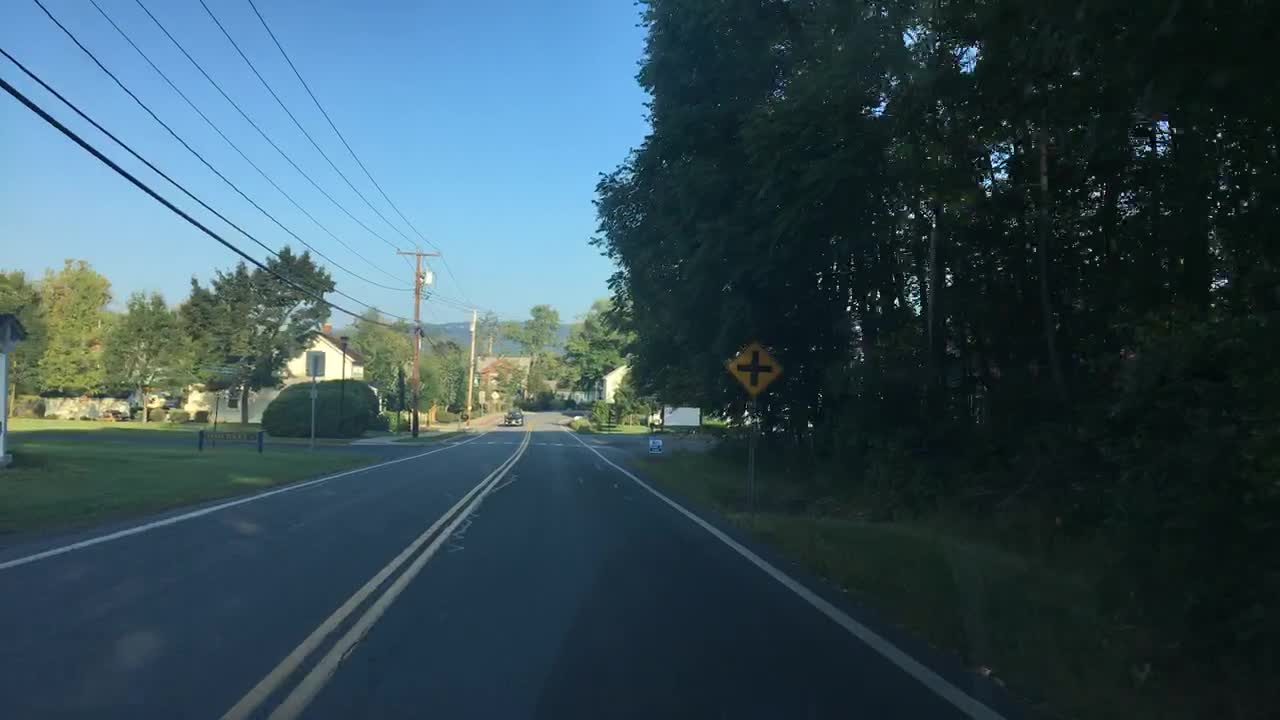car: (504, 413, 523, 430)
traffic sign: (724, 337, 781, 394), (307, 352, 324, 373), (649, 437, 663, 453), (476, 390, 486, 406), (489, 387, 498, 402)
truck: (644, 406, 700, 431)
